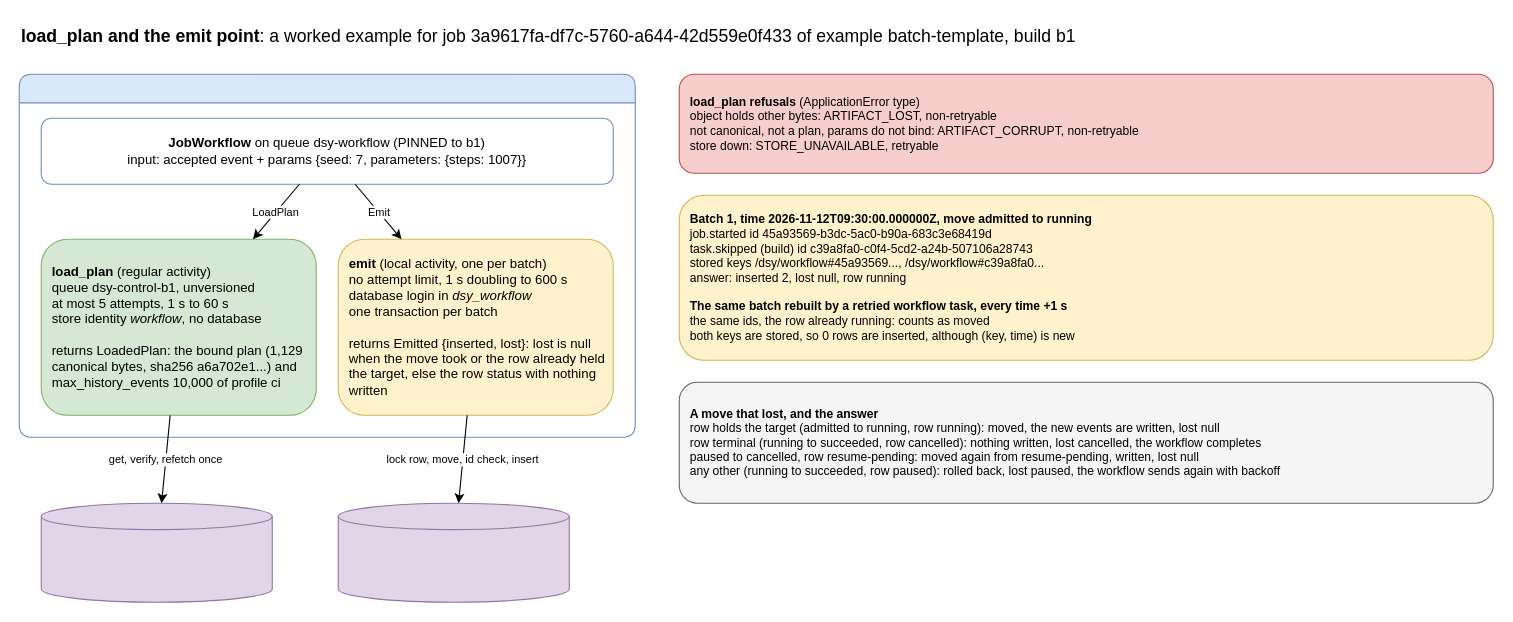
Some shapes in this 1513 by 622 pixel diagram are drawn without their labels. The box of each missing label's shape, as (x1, y1, x2, y2) in pixels:
object store dsy-sources sha256/a8/a829c500...7b58 manifest.json, 1,157 bytes: (40, 502, 272, 602)
Postgres accepted_job.status event (event_id, event_time): (337, 502, 569, 602)
workflow worker service, build b1: (18, 73, 635, 437)
